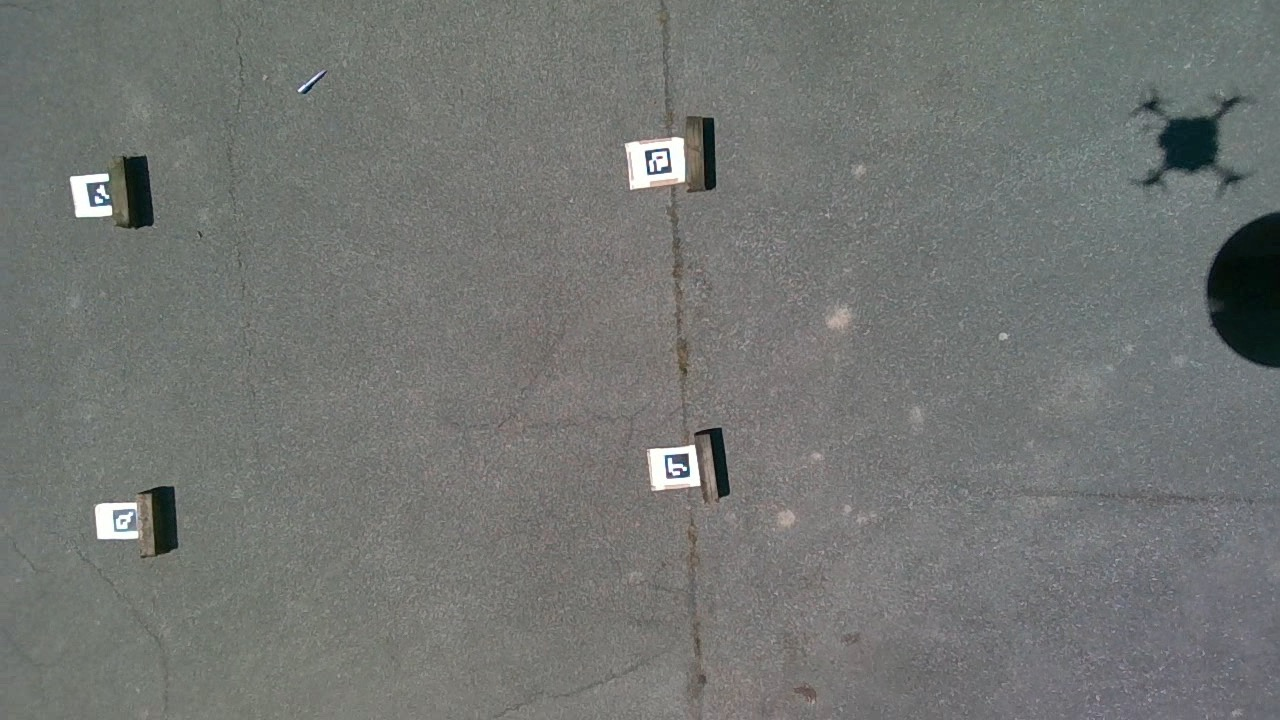probes: (297, 68, 327, 94)
